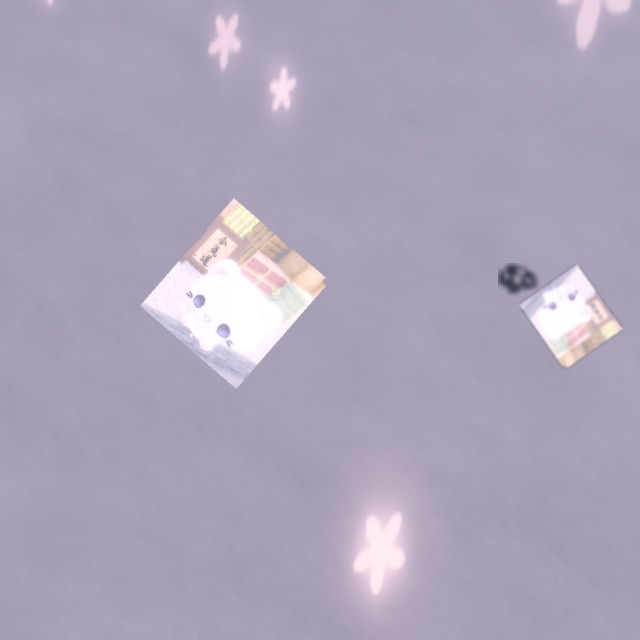urso_branco: (140, 198, 330, 389), (519, 264, 623, 370)
urso_preto: (498, 263, 541, 297)
